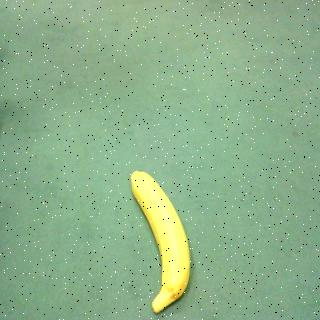banana: (122, 164, 198, 320)
